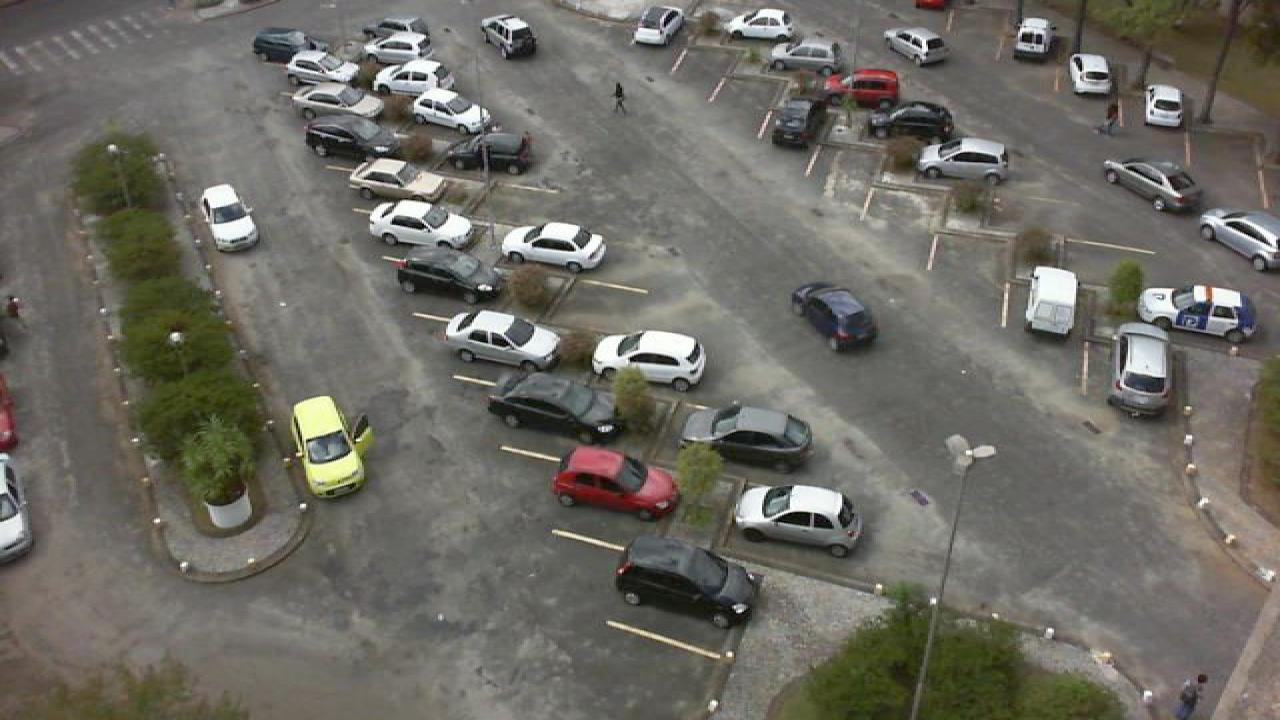Car: (612, 536, 760, 630), (486, 371, 626, 447), (676, 401, 818, 472), (548, 445, 680, 521), (732, 483, 864, 557), (290, 394, 376, 500), (440, 308, 562, 373), (590, 328, 710, 392), (1136, 285, 1258, 344), (498, 219, 612, 277), (394, 246, 504, 305), (1106, 322, 1172, 420), (790, 280, 878, 351), (364, 198, 476, 253), (1100, 156, 1206, 214), (1198, 206, 1280, 273), (914, 135, 1010, 186), (344, 158, 446, 202), (860, 99, 958, 144), (198, 182, 260, 252), (1022, 266, 1080, 340), (300, 116, 394, 161), (0, 454, 36, 568), (406, 87, 492, 134), (442, 130, 532, 174), (292, 83, 386, 124), (370, 57, 460, 98), (282, 48, 366, 88), (828, 68, 900, 109), (768, 39, 842, 75), (770, 98, 820, 150), (250, 28, 324, 63), (882, 27, 950, 65), (480, 14, 538, 57), (362, 33, 432, 65), (630, 5, 686, 45), (730, 8, 798, 39), (1066, 53, 1112, 98), (1010, 17, 1054, 61), (1142, 83, 1186, 127), (362, 16, 432, 42)
